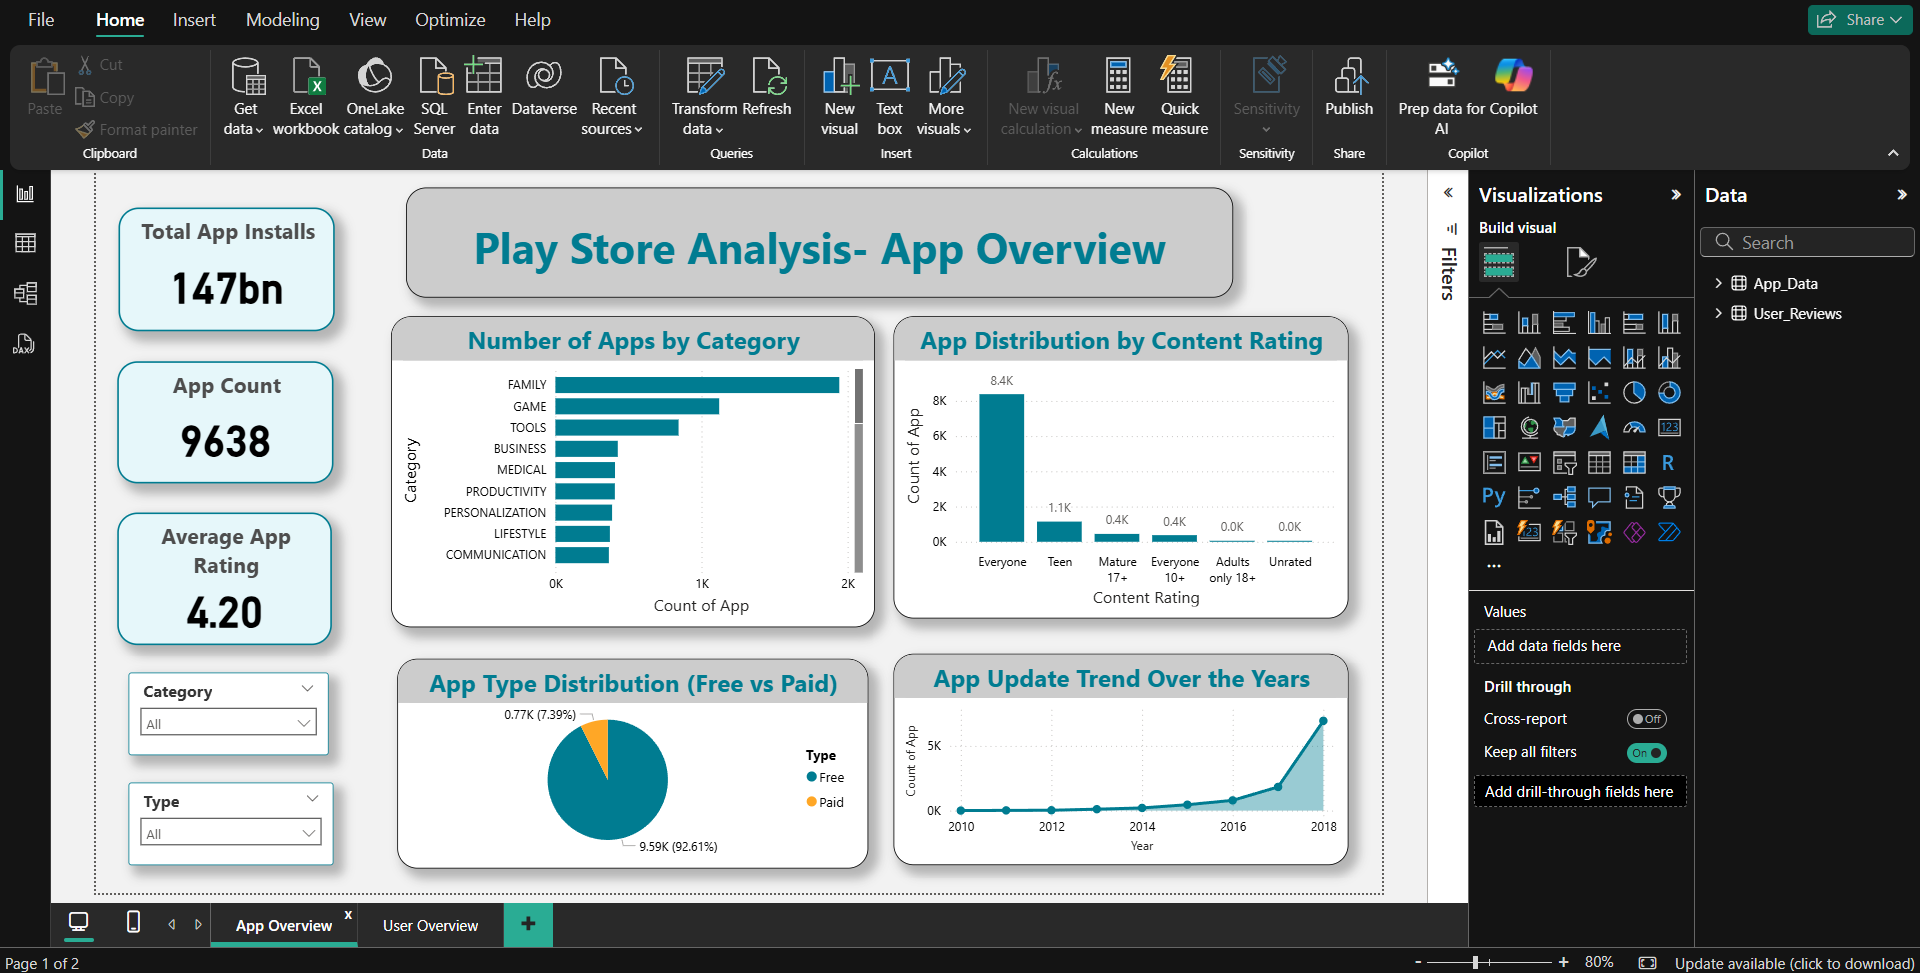

The page's visual inventory and layout, read from the dashboard file:
{"tool":"powerbi","page":{"name":"App Overview","canvas":[1280,720],"ordinal":0},"visuals":[{"type":"card","title":"Total App Installs","fields":{"Values":["Sum(new_cleaned_playstore_data.Installs)"]},"box":[22.4,37.3,215.2,123.2],"z":0},{"type":"card","title":" App Count","fields":{"Values":["Count(new_cleaned_playstore_data.App)"]},"box":[21.1,190.3,215.2,121.9],"z":1000},{"type":"card","title":"Average App Rating","fields":{"Values":["Avg(new_cleaned_playstore_data.Rating)"]},"box":[21.1,340.8,214,131.9],"z":2000},{"type":"clusteredBarChart","title":"Number of Apps by Category","fields":{"Category":["new_cleaned_playstore_data.Category"],"Y":["CountNonNull(new_cleaned_playstore_data.App)"]},"box":[293.6,145.5,481.4,309.7],"z":3000},{"type":"pieChart","title":"App Type Distribution (Free vs Paid)","fields":{"Category":["new_cleaned_playstore_data.Type"],"Y":["CountNonNull(new_cleaned_playstore_data.App)"]},"box":[299.8,486.4,469,209],"z":5000},{"type":"clusteredColumnChart","title":"App Distribution by Content Rating","fields":{"Category":["new_cleaned_playstore_data.Content Rating"],"Y":["CountNonNull(new_cleaned_playstore_data.App)"]},"box":[793.6,145.5,452.8,301],"z":6000},{"type":"slicer","title":"Select App Category","fields":{"Values":["new_cleaned_playstore_data.Category"]},"box":[32.3,500.1,199,82.1],"z":7000},{"type":"slicer","title":"Select App Type","fields":{"Values":["new_cleaned_playstore_data.Type"]},"box":[32.3,609.5,204,82.1],"z":8000},{"type":"lineChart","title":"App Update Trend Over the Years","fields":{"Y":["CountNonNull(new_cleaned_playstore_data.App)"],"Category":["new_cleaned_playstore_data.Last Updated.Variation.Date Hierarchy.Year"]},"box":[793.6,481.4,452.8,210.2],"z":10000},{"type":"textbox","box":[308.5,17.4,823.5,109.5],"z":11000}]}

Visuals, with their boxes on the page's 1280x720 design canvas (x1, y1, x2, y2). These are canvas units, not pixel positions in the 1920x973 screenshot, which may show the page scaled, cropped or inside an application window:
"Total App Installs" card: detection(22, 37, 238, 160)
" App Count" card: detection(21, 190, 236, 312)
"Average App Rating" card: detection(21, 341, 235, 473)
"Number of Apps by Category" clusteredBarChart: detection(294, 146, 775, 455)
"App Type Distribution (Free vs Paid)" pieChart: detection(300, 486, 769, 695)
"App Distribution by Content Rating" clusteredColumnChart: detection(794, 146, 1246, 446)
"Select App Category" slicer: detection(32, 500, 231, 582)
"Select App Type" slicer: detection(32, 610, 236, 692)
"App Update Trend Over the Years" lineChart: detection(794, 481, 1246, 692)
textbox: detection(308, 17, 1132, 127)
